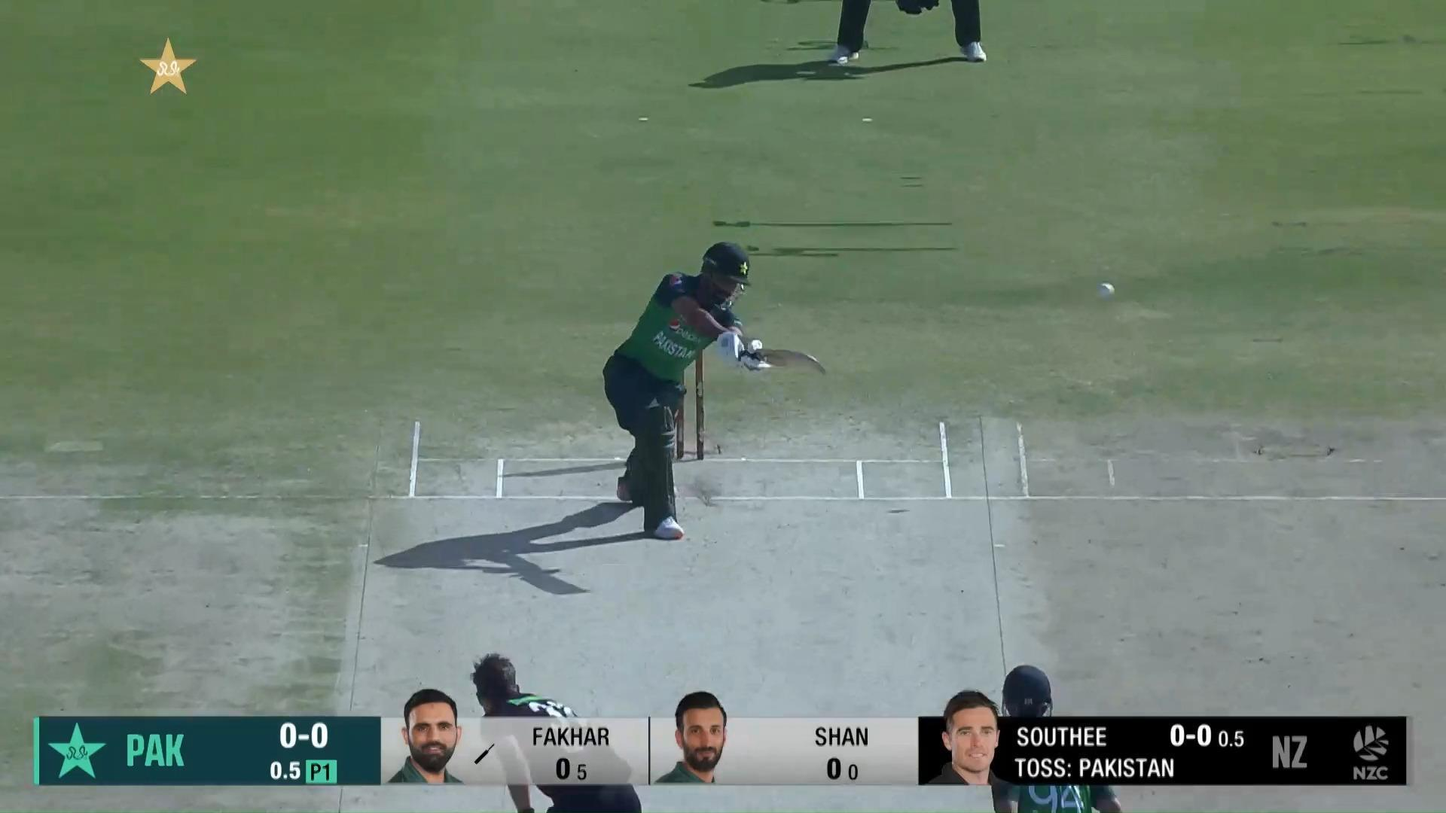BM 1: (602, 241, 826, 539)
BO: (469, 649, 646, 813)
